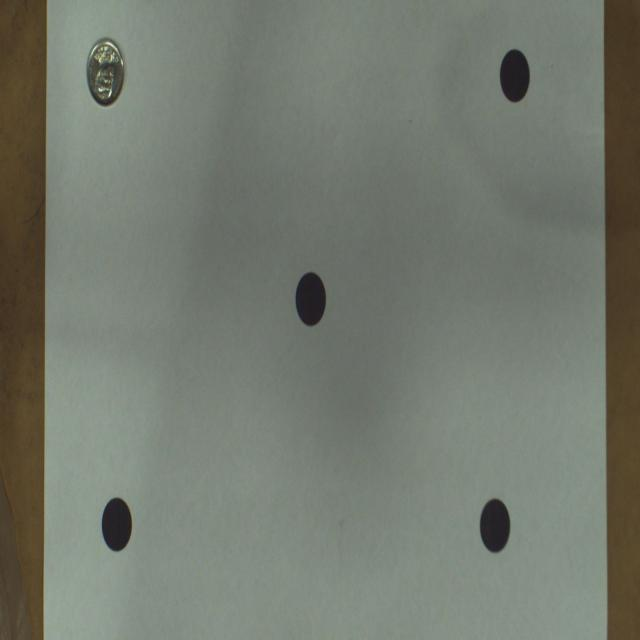head1bath: (88, 40, 125, 104)
space: (295, 271, 326, 327), (480, 498, 510, 553), (101, 498, 132, 551), (500, 49, 530, 102)
